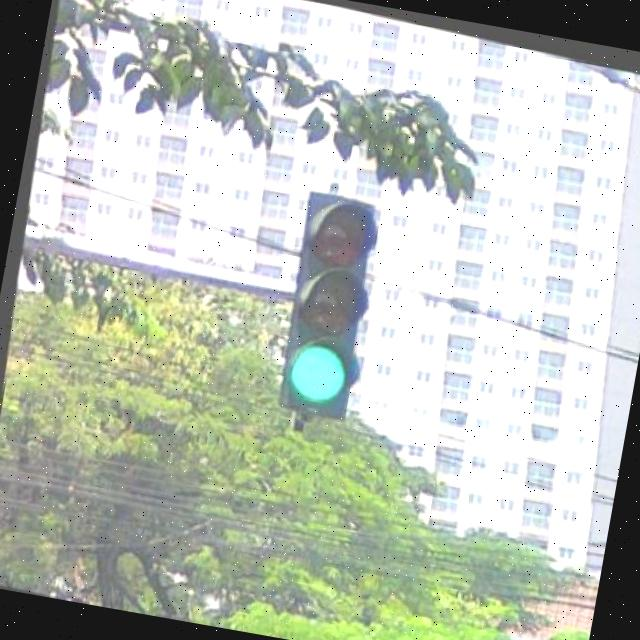green_light: (260, 183, 392, 424)
